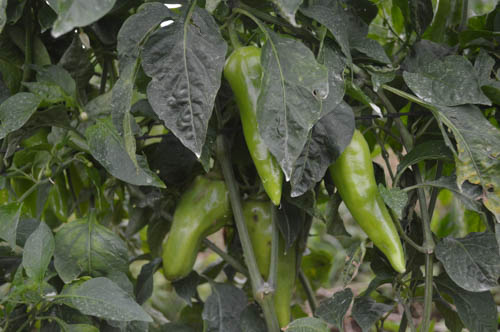ChiliPepper: (330, 137, 405, 272), (225, 48, 278, 203), (240, 200, 293, 324), (162, 179, 225, 282), (42, 170, 65, 218), (72, 158, 91, 212)
